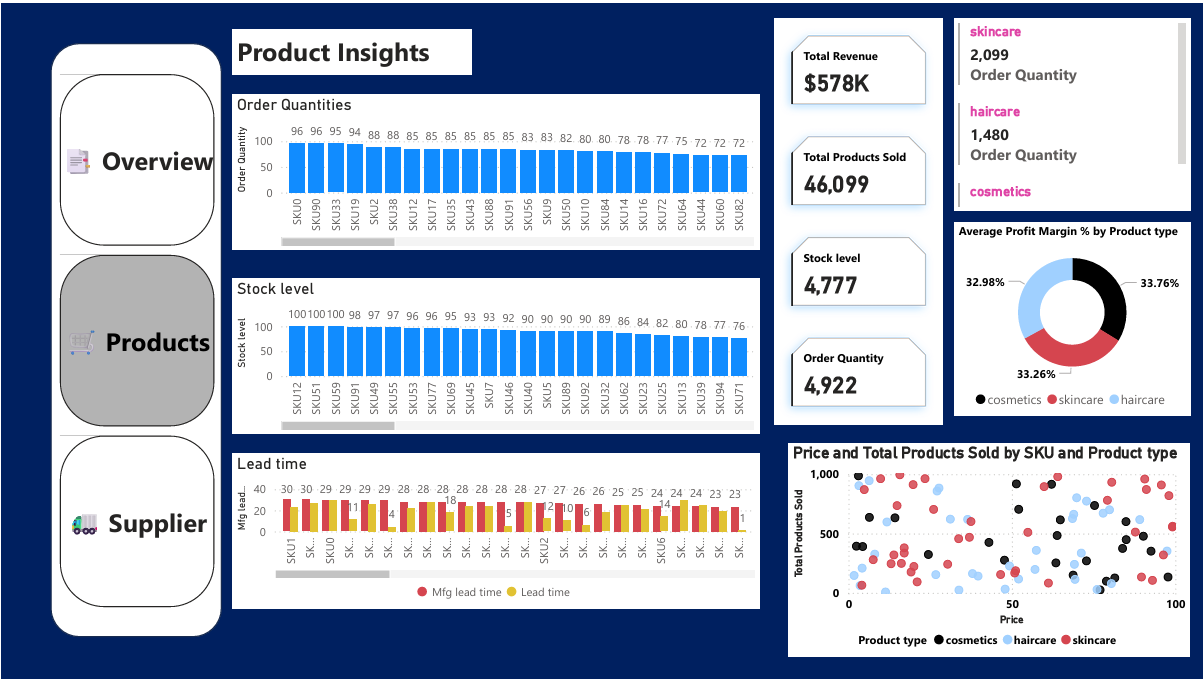

The dashboard page shown, as its layout file describes it:
{"tool":"powerbi","page":{"name":"🛒 Products","canvas":[1280,720],"ordinal":1},"visuals":[{"type":"columnChart","title":"Order Quantities","fields":{"Y":["_Measures.Order Quantity"],"Category":["supply_chain_data.SKU"]},"box":[245.3,97.3,559.8,165],"z":0},{"type":"columnChart","title":"Stock level","fields":{"Y":["_Measures.Stock level"],"Category":["supply_chain_data.SKU"]},"box":[245.3,291.9,559.8,165],"z":1000},{"type":"clusteredColumnChart","title":"Lead time","fields":{"Category":["supply_chain_data.SKU"],"Y":["Sum(supply_chain_data.Mfg lead time)","Sum(supply_chain_data.Lead time)"]},"box":[245.3,478,559.8,165],"z":2000},{"type":"cardVisual","fields":{"Data":["_Measures.Total Revenue","_Measures.Total Products Sold","_Measures.Stock level","_Measures.Order Quantity"]},"box":[820.6,15.5,179.1,432.9],"z":3000},{"type":"donutChart","fields":{"Category":["supply_chain_data.Product type"],"Y":["_Measures.Average Profit Margin %"]},"box":[1012.4,232.7,251,205.9],"z":4000},{"type":"scatterChart","fields":{"Category":["supply_chain_data.SKU"],"X":["Sum(supply_chain_data.Price)"],"Y":["_Measures.Total Products Sold"],"Series":["supply_chain_data.Product type"]},"box":[836.1,466.7,427.2,227],"z":5000},{"type":"multiRowCard","fields":{"Values":["_Measures.Order Quantity","supply_chain_data.Product type"]},"box":[1012.4,15.5,251,205.9],"z":6000},{"type":"textbox","box":[245.3,26.8,253.8,47.9],"z":7000},{"type":"pageNavigator","box":[62,74.7,163.6,568.2],"z":7001}]}

Visuals, with their boxes in screenshot pixels (x1, y1, x2, y2), scaled from the page's 1280x720 canvas onto the 1203x679 screenshot:
"Order Quantities" columnChart: <region>231, 92, 757, 247</region>
"Stock level" columnChart: <region>231, 275, 757, 431</region>
"Lead time" clusteredColumnChart: <region>231, 451, 757, 606</region>
cardVisual - _Measures.Total Revenue x _Measures.Total Products Sold: <region>771, 15, 940, 423</region>
donutChart - supply_chain_data.Product type x _Measures.Average Profit Margin %: <region>951, 219, 1187, 414</region>
scatterChart - supply_chain_data.SKU x Sum(supply_chain_data.Price): <region>786, 440, 1187, 654</region>
multiRowCard - _Measures.Order Quantity x supply_chain_data.Product type: <region>951, 15, 1187, 209</region>
textbox: <region>231, 25, 469, 70</region>
pageNavigator: <region>58, 70, 212, 606</region>
